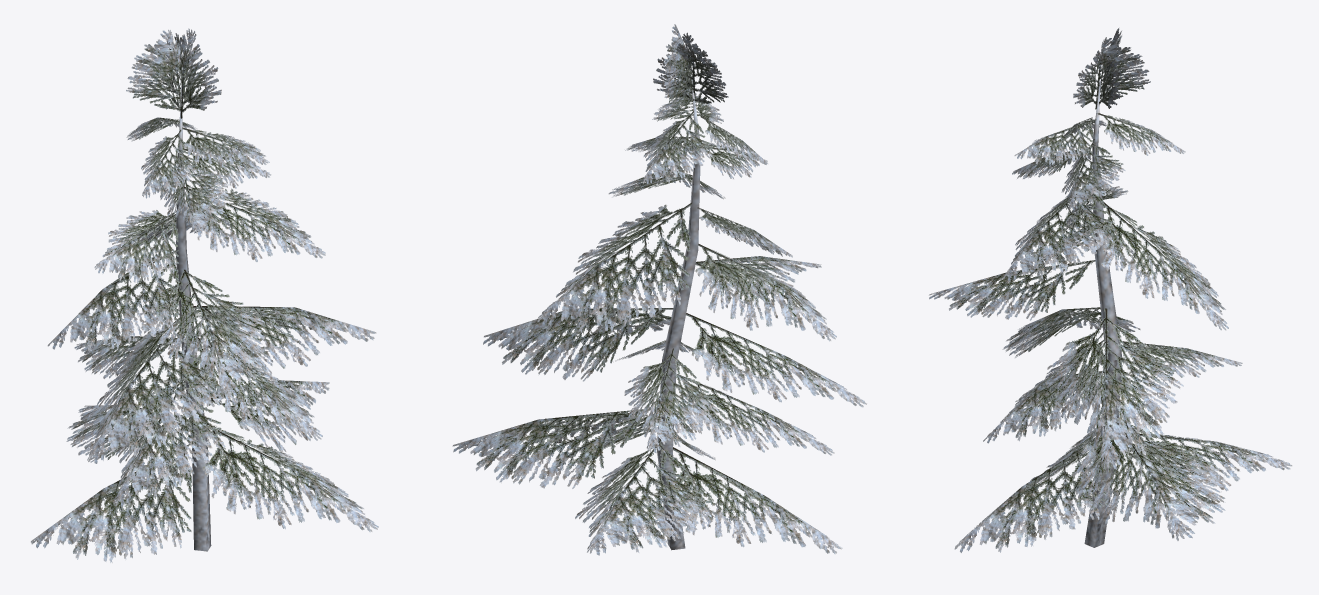
The model's file is SM_EN_2007_guanmu03.FBX.
The picture shows the model from 3 angles, left to right: view 1: azimuth 30°, elevation 25°; view 2: azimuth 150°, elevation 25°; view 3: azimuth 270°, elevation 25°; orthographic projection. The views are drawn at different scales.
Visible parts, largest first — view 1: SM_EN_2007_guanmu03; view 2: SM_EN_2007_guanmu03; view 3: SM_EN_2007_guanmu03.
Boxes of the visible parts, x1=… form: SM_EN_2007_guanmu03: x1=31, y1=28, x2=378, y2=562; SM_EN_2007_guanmu03: x1=452, y1=24, x2=866, y2=555; SM_EN_2007_guanmu03: x1=929, y1=28, x2=1292, y2=552.
Bounding box in the file's own units: 105 × 139 × 98.
